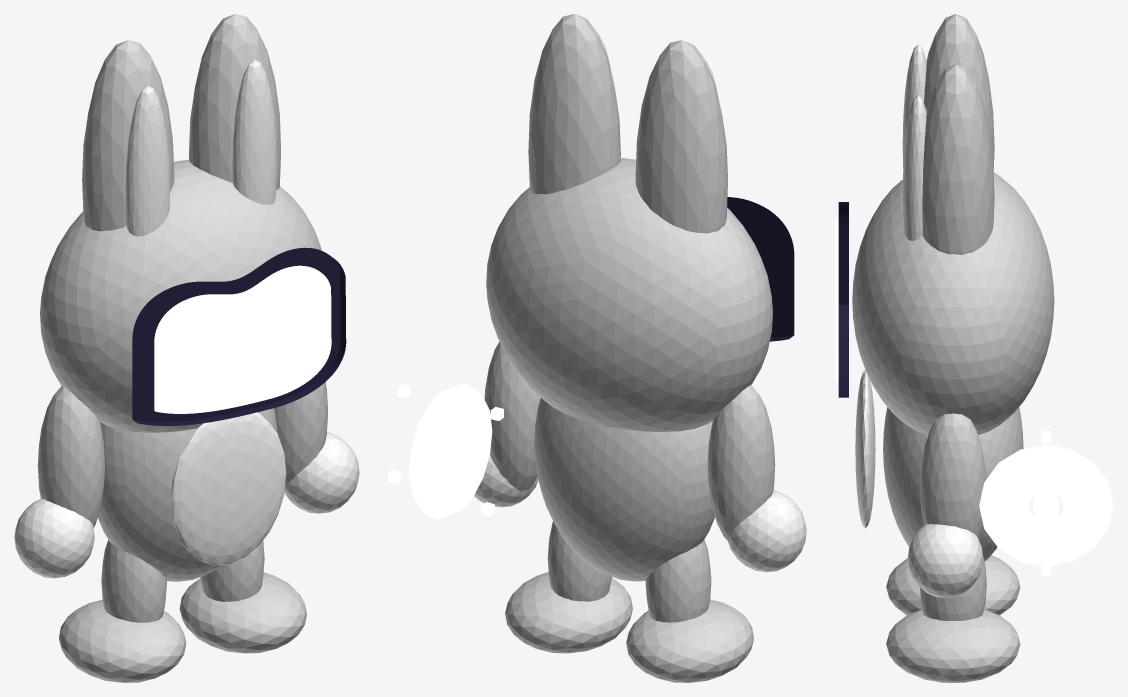
Rendered from hopper.glb.
3 renders of one model, left to right at view 1: azimuth 30°, elevation 25°; view 2: azimuth 150°, elevation 25°; view 3: azimuth 270°, elevation 25°, orthographic. The views are drawn at different scales.
Visible parts, largest first — view 1: head, face_screen, belly_patch, body, face_frame, ear_L, ear_R, foot_L, arm_L, foot_R, inner_ear_L, inner_ear_R (+5 smaller); view 2: head, body, ear_L, ear_R, arm_L, foot_L, foot_R, portal_ring_0, arm_R, face_frame, hand_L, leg_L (+4 smaller); view 3: head, ear_R, foot_R, portal_ring_0, arm_R, body, hand_R, ear_L, portal_ring_1, foot_L, inner_ear_R, belly_patch (+6 smaller).
Part boxes in pixels (left/top/right/bottom): head: left=40, top=159, right=321, bottom=432; face_screen: left=154, top=265, right=331, bottom=413; belly_patch: left=170, top=412, right=286, bottom=565; body: left=97, top=408, right=277, bottom=581; face_frame: left=132, top=247, right=346, bottom=425; ear_L: left=82, top=40, right=174, bottom=231; ear_R: left=189, top=14, right=281, bottom=190; foot_L: left=59, top=599, right=186, bottom=682; arm_L: left=37, top=386, right=105, bottom=527; foot_R: left=179, top=572, right=306, bottom=653; inner_ear_L: left=125, top=86, right=169, bottom=236; inner_ear_R: left=232, top=60, right=276, bottom=204; head: left=486, top=158, right=772, bottom=431; body: left=534, top=398, right=714, bottom=581; ear_L: left=635, top=40, right=727, bottom=233; ear_R: left=528, top=14, right=620, bottom=194; arm_L: left=707, top=385, right=775, bottom=540; foot_L: left=626, top=599, right=753, bottom=682; foot_R: left=505, top=572, right=632, bottom=653; portal_ring_0: left=409, top=383, right=492, bottom=519; arm_R: left=484, top=342, right=540, bottom=491; face_frame: left=727, top=197, right=794, bottom=341; hand_L: left=727, top=490, right=806, bottom=572; leg_L: left=645, top=539, right=711, bottom=622; head: left=852, top=172, right=1054, bottom=434; ear_R: left=922, top=64, right=994, bottom=254; foot_R: left=886, top=609, right=1020, bottom=682; portal_ring_0: left=979, top=445, right=1113, bottom=565; arm_R: left=920, top=413, right=985, bottom=538; body: left=883, top=407, right=1023, bottom=561; hand_R: left=907, top=524, right=983, bottom=597; ear_L: left=924, top=14, right=994, bottom=168; portal_ring_1: left=1001, top=467, right=1090, bottom=548; foot_L: left=886, top=555, right=1020, bottom=615; inner_ear_R: left=902, top=95, right=926, bottom=240; belly_patch: left=855, top=370, right=875, bottom=528.
Bounding box in the file's own units: 0.6419 × 1.08 × 0.4487.
